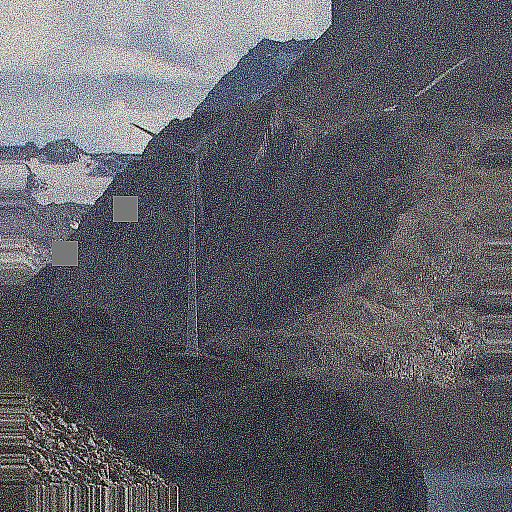wind turbine: (133, 118, 236, 355)
